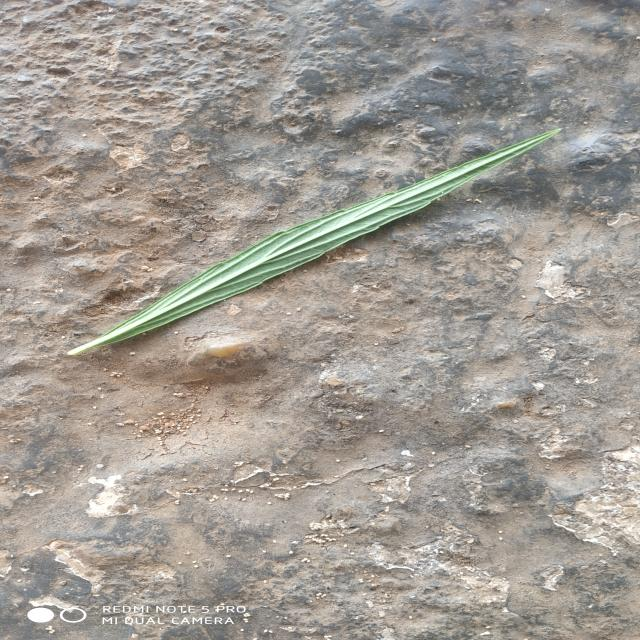thambe: (96, 130, 558, 344)
